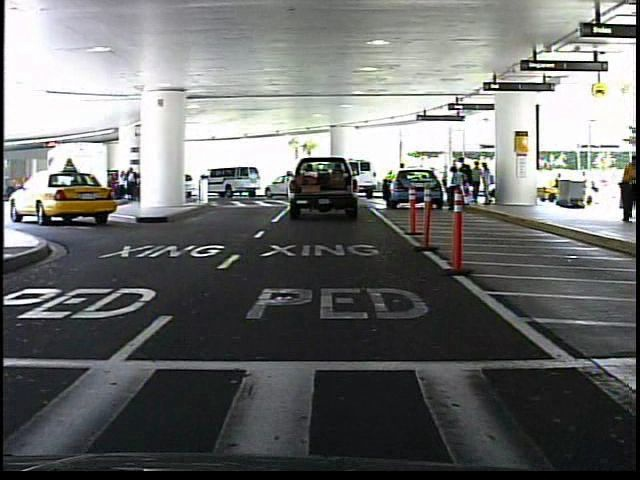person: (612, 151, 640, 224), (395, 159, 411, 199)
